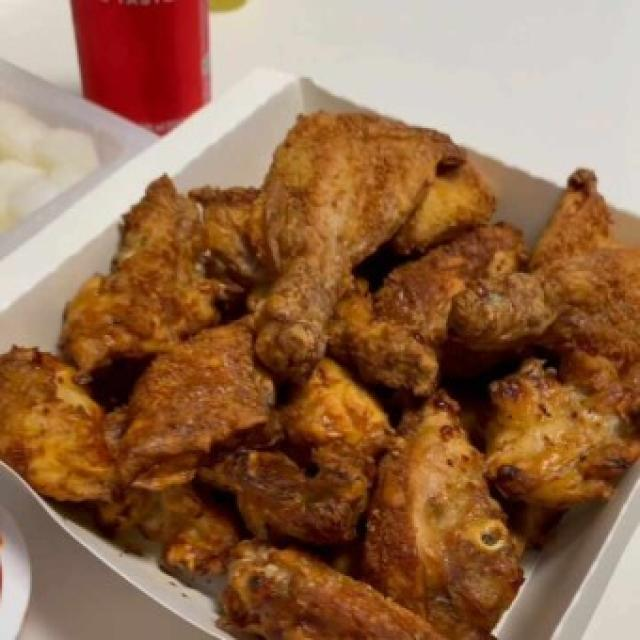Frango: (7, 103, 640, 640)
